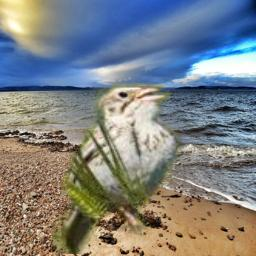Sparrow: (52, 83, 182, 254)
